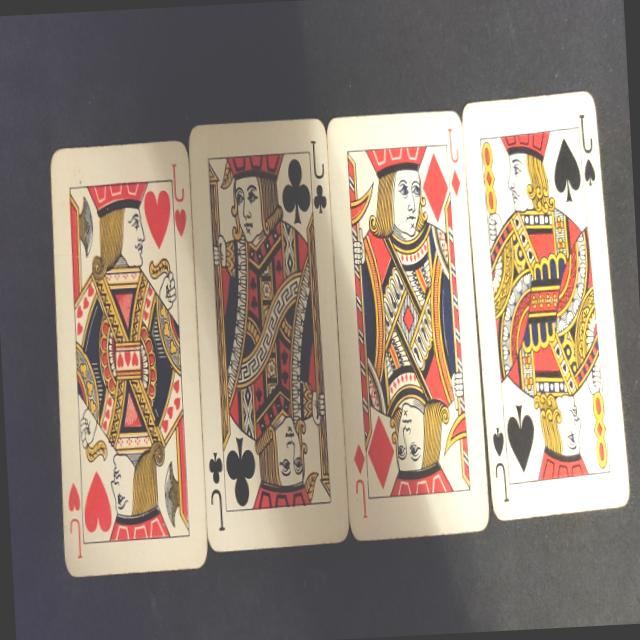Club: (225, 437, 258, 508), (280, 158, 312, 225), (208, 452, 224, 484), (312, 184, 328, 214)
Diamond: (366, 415, 396, 490), (420, 152, 450, 224), (353, 444, 366, 474), (451, 168, 461, 197)
Heart: (82, 471, 113, 534), (143, 190, 173, 250), (174, 208, 187, 238), (68, 482, 80, 512)
Jack: (210, 488, 226, 532), (578, 113, 594, 155), (495, 462, 509, 502), (310, 140, 324, 180), (355, 478, 368, 518), (70, 518, 82, 559), (172, 163, 184, 202), (447, 128, 459, 164)
Spade: (506, 404, 537, 474), (552, 138, 582, 204), (492, 427, 505, 458), (584, 158, 596, 186)
